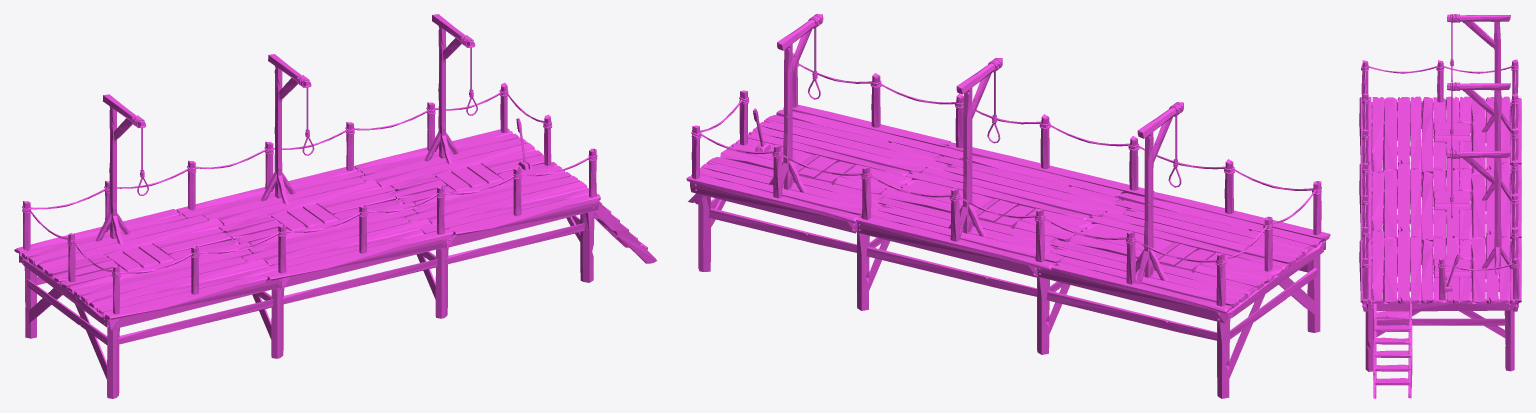
Rendered from SM_Gibbet_Fantasy_Long.fbx.
3 views of the same model, side by side, from view 1: azimuth 30°, elevation 25°; view 2: azimuth 150°, elevation 25°; view 3: azimuth 270°, elevation 25° (orthographic). The views are drawn at different scales.
Visible parts, largest first — view 1: SM_Gibbet_Fantasy_Long_Base, SM_Gibbet_Fantasy_Long_Door; view 2: SM_Gibbet_Fantasy_Long_Base, SM_Gibbet_Fantasy_Long_Door; view 3: SM_Gibbet_Fantasy_Long_Base, SM_Gibbet_Fantasy_Long_Door.
Part boxes in pixels (<box>): SM_Gibbet_Fantasy_Long_Base: <box>14,14,656,398</box>; SM_Gibbet_Fantasy_Long_Door: <box>106,164,502,271</box>; SM_Gibbet_Fantasy_Long_Base: <box>686,14,1330,398</box>; SM_Gibbet_Fantasy_Long_Door: <box>793,152,1215,271</box>; SM_Gibbet_Fantasy_Long_Base: <box>1359,14,1521,398</box>; SM_Gibbet_Fantasy_Long_Door: <box>1433,122,1471,280</box>.
Bounding box in the file's own units: 13.55 × 5.22 × 4.04.
